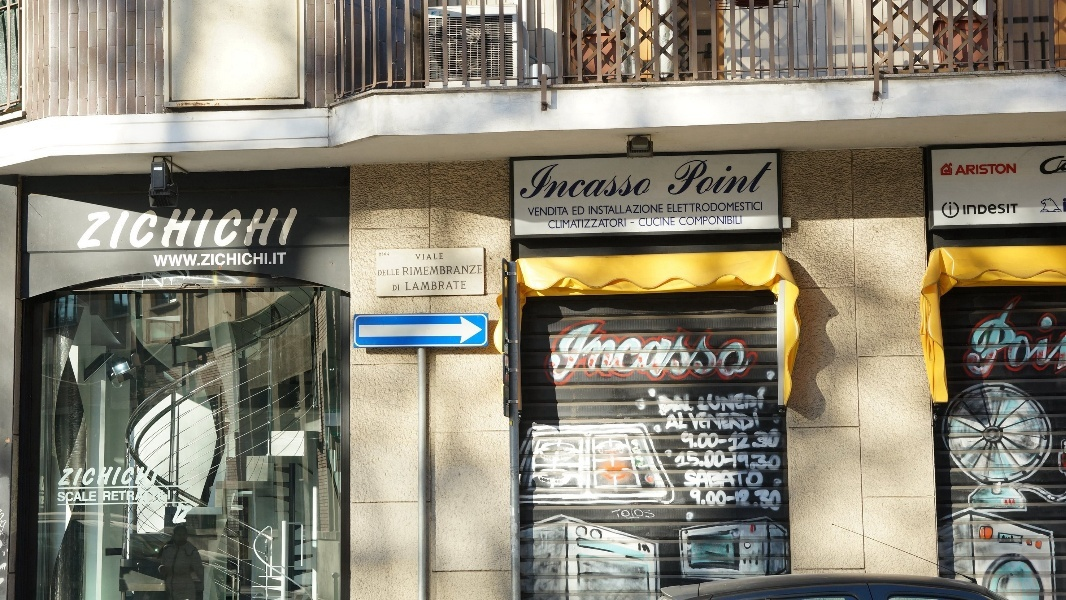text: (993, 295, 1008, 382), (1009, 295, 1024, 382), (1025, 295, 1040, 382), (1041, 295, 1056, 382), (561, 316, 576, 386), (577, 316, 592, 386), (593, 316, 608, 386), (609, 316, 624, 386), (625, 316, 640, 386), (641, 316, 656, 386), (657, 316, 672, 386), (673, 316, 688, 386), (689, 316, 704, 386), (705, 316, 720, 386), (721, 316, 736, 386), (737, 316, 752, 386), (753, 316, 768, 386), (1057, 295, 1066, 382), (97, 207, 112, 250), (113, 207, 128, 250), (129, 207, 144, 250), (145, 207, 160, 250), (161, 207, 176, 250), (177, 207, 192, 250), (193, 207, 208, 250), (209, 207, 224, 250), (225, 207, 240, 250), (241, 207, 256, 250), (257, 207, 272, 250), (273, 207, 288, 250), (529, 163, 544, 199), (545, 163, 560, 199), (561, 163, 576, 199), (577, 163, 592, 199), (593, 163, 608, 199), (609, 163, 624, 199), (625, 163, 640, 199), (641, 163, 656, 199), (689, 159, 704, 195), (705, 159, 720, 195), (721, 159, 736, 195), (737, 159, 752, 195), (753, 159, 768, 195), (673, 388, 688, 417), (689, 388, 704, 417), (705, 388, 720, 417), (721, 388, 736, 417), (737, 388, 752, 417), (987, 295, 992, 382), (289, 207, 299, 250), (658, 388, 672, 417), (689, 429, 704, 455), (705, 429, 720, 455), (721, 429, 736, 455), (737, 429, 752, 455), (753, 429, 768, 455), (753, 388, 766, 417), (689, 488, 704, 511), (705, 488, 720, 511), (721, 488, 736, 511), (737, 488, 752, 511), (753, 488, 768, 511), (769, 429, 782, 455), (673, 408, 688, 430), (689, 408, 704, 430), (705, 408, 720, 430), (721, 408, 736, 430), (737, 408, 752, 430), (689, 450, 704, 471), (705, 450, 720, 471), (721, 450, 736, 471), (737, 450, 752, 471), (753, 450, 768, 471), (65, 466, 80, 486), (81, 466, 96, 486), (97, 466, 112, 486), (113, 466, 128, 486), (129, 466, 144, 486), (145, 466, 160, 486), (689, 470, 704, 490), (705, 470, 720, 490), (721, 470, 736, 490), (737, 470, 752, 490), (674, 450, 688, 471), (769, 488, 781, 511), (769, 450, 782, 471), (90, 207, 96, 250), (769, 159, 776, 195), (753, 470, 765, 490), (177, 252, 192, 267), (193, 252, 208, 267), (209, 252, 224, 267), (225, 252, 240, 267), (241, 252, 256, 267), (257, 252, 272, 267), (273, 252, 287, 267), (681, 429, 688, 455), (683, 159, 688, 195), (81, 491, 97, 502), (65, 491, 80, 502), (593, 204, 608, 215), (609, 204, 624, 215), (625, 204, 640, 215), (641, 204, 656, 215), (673, 202, 688, 213), (689, 202, 704, 213), (705, 202, 720, 213), (721, 202, 736, 213), (737, 202, 752, 213), (417, 265, 432, 276), (433, 265, 448, 276), (449, 265, 464, 276), (465, 265, 480, 276), (961, 164, 976, 175), (977, 164, 992, 175), (993, 164, 1008, 175), (977, 204, 992, 215), (993, 204, 1008, 215), (753, 408, 760, 430), (113, 491, 128, 501), (129, 491, 144, 501), (145, 491, 160, 501), (561, 219, 576, 229), (577, 219, 592, 229), (593, 219, 608, 229), (609, 219, 624, 229), (641, 217, 656, 227), (657, 217, 672, 227), (417, 281, 432, 291), (433, 281, 448, 291), (449, 281, 464, 291), (641, 509, 657, 518), (403, 265, 416, 276), (769, 316, 771, 386), (529, 207, 544, 216), (545, 207, 560, 216), (689, 216, 704, 225), (705, 216, 720, 225), (721, 216, 736, 225), (625, 509, 640, 518), (964, 204, 976, 215), (610, 509, 624, 518), (753, 202, 763, 213), (549, 219, 560, 229), (1009, 204, 1019, 215), (169, 252, 176, 267), (406, 281, 416, 291), (103, 491, 112, 501), (161, 491, 170, 501), (417, 254, 432, 260), (385, 270, 400, 276), (1009, 164, 1017, 175), (657, 204, 664, 215), (561, 207, 569, 216), (680, 216, 688, 225), (58, 491, 64, 502), (669, 408, 672, 430), (433, 254, 444, 260), (577, 207, 585, 215), (685, 470, 688, 490), (737, 216, 742, 225), (668, 202, 672, 213), (393, 285, 400, 291), (657, 163, 658, 199), (378, 270, 384, 276), (589, 204, 592, 215), (573, 207, 576, 215), (481, 265, 483, 276), (673, 217, 675, 227), (380, 253, 384, 256), (385, 253, 389, 256), (625, 219, 626, 229), (639, 217, 640, 227), (465, 281, 466, 291), (631, 222, 640, 223)
